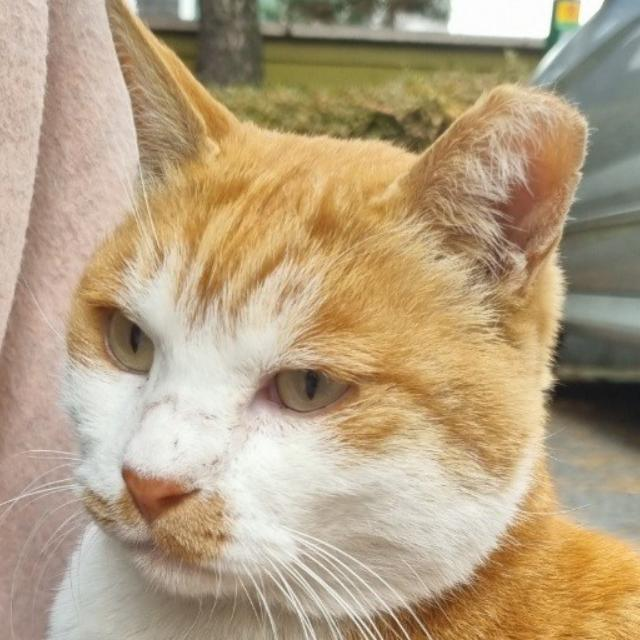animals: (47, 0, 593, 619)
